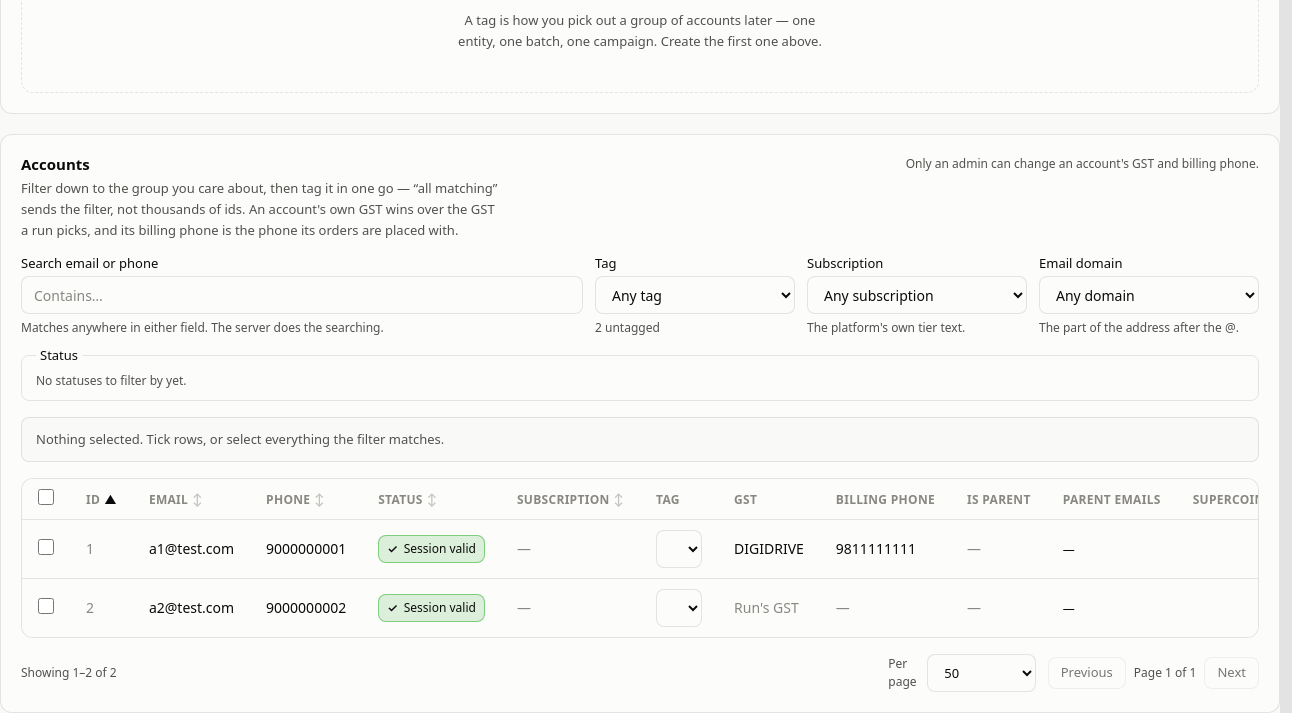
Test: Accounts: an operator's view of the GST and billing phone › offers a selection the tag but not a GST
(page scrolled)
Expected: the text "a2@test.com" is shown, [149,598,234,618]
Click the checkbox named "Select a1@test.com" in the row of "a1@test.com" at point(46, 547), box [38,539,54,555]
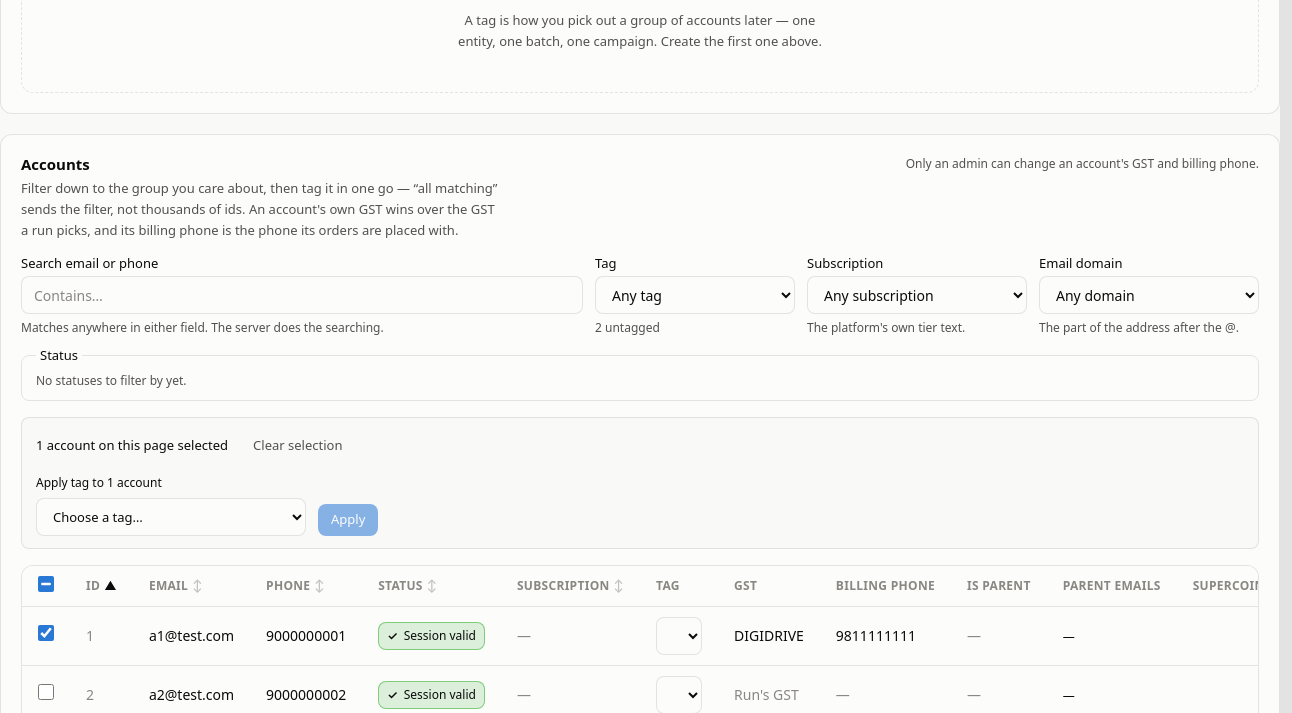
Expected: the dropdown labelled "Apply tag to 1 account" is shown, [36,498,306,536]
